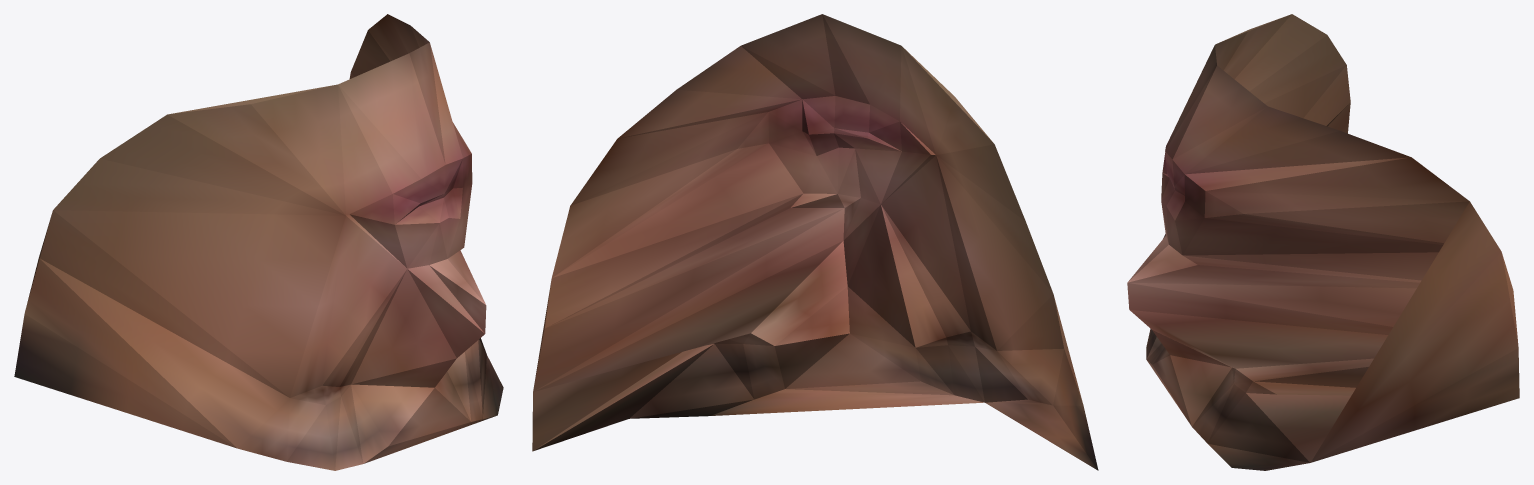
Rendered from real_17785.obj.
The picture shows the model from 3 angles, left to right: view 1: azimuth 30°, elevation 25°; view 2: azimuth 150°, elevation 25°; view 3: azimuth 270°, elevation 25°; orthographic projection. The views are drawn at different scales.
Size of the model in its own units: 113 by 93 by 92.07.
